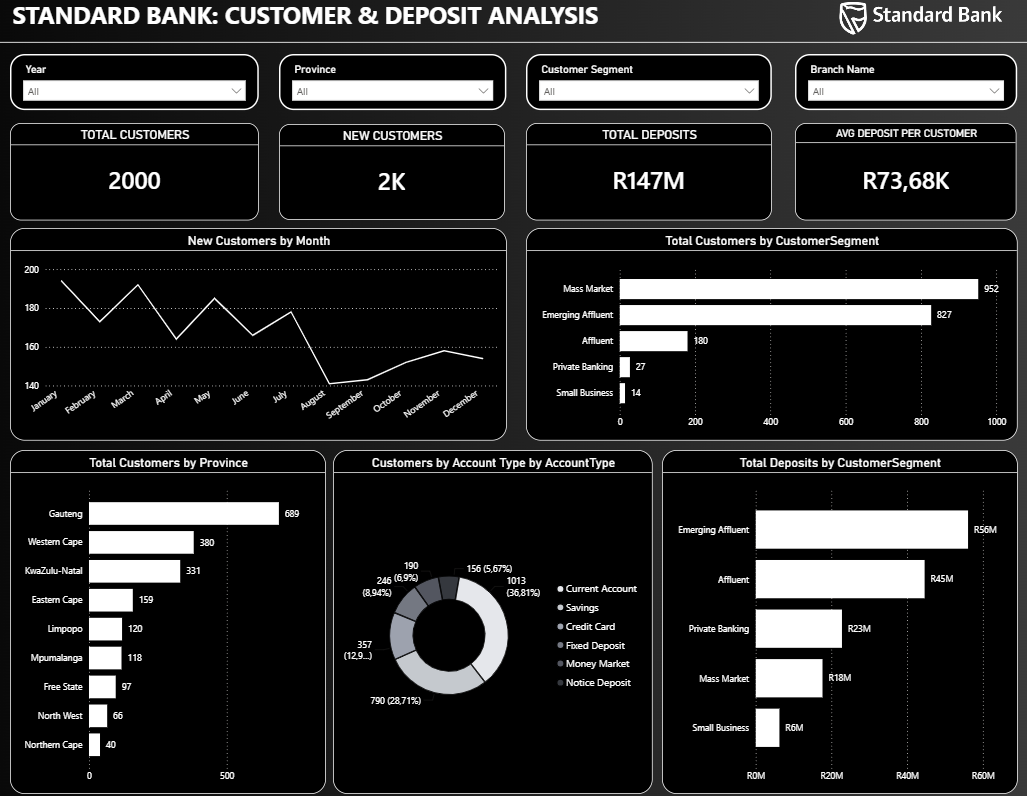

The dashboard page shown, as its layout file describes it:
{"tool":"powerbi","page":{"name":"CustomerDepositAnalysis","canvas":[1410,1100],"ordinal":1},"visuals":[{"type":"textbox","box":[0,0,1410.2,66.4],"z":0},{"type":"cardVisual","title":"TOTAL CUSTOMERS","fields":{"Data":["Measures (2).Total Customers"]},"box":[18.4,174.2,337.1,131.7],"z":1000},{"type":"cardVisual","title":"NEW CUSTOMERS","fields":{"Data":["Measures (2).New Customers"]},"box":[383.8,175.6,305.9,130.3],"z":2000},{"type":"cardVisual","title":"TOTAL DEPOSITS","fields":{"Data":["Measures (2).Total Deposits"]},"box":[718,174.2,332.8,131.7],"z":3000},{"type":"cardVisual","title":"AVG DEPOSIT PER CUSTOMER","fields":{"Data":["Measures (2).Avg Deposit per Customer"]},"box":[1082,174.2,300.2,131.7],"z":4000},{"type":"lineChart","fields":{"Category":["DimDate.Month"],"Y":["Measures (2).New Customers"]},"box":[18.4,317.2,672.7,287.5],"z":5000},{"type":"clusteredBarChart","fields":{"Y":["Measures (2).Total Customers"],"Category":["Customers.CustomerSegment"]},"box":[718,317.2,665.6,287.5],"z":6000},{"type":"image","box":[1095.9,5.4,314.4,55.2],"z":7000},{"type":"clusteredBarChart","fields":{"Y":["Measures (2).Total Customers"],"Category":["Customers.Province"]},"box":[18.4,617.5,427.7,465.9],"z":8000},{"type":"clusteredBarChart","fields":{"Category":["Customers.CustomerSegment"],"Y":["Measures (2).Total Deposits"]},"box":[902.2,617.5,481.5,465.9],"z":9000},{"type":"donutChart","fields":{"Category":["Accounts.AccountType"],"Y":["Measures (2).Customers by Account Type"]},"box":[456,617.5,433.4,465.9],"z":10000},{"type":"slicer","fields":{"Values":["Branches.BranchName"]},"box":[1082.4,81.3,300.7,75.9],"z":11000},{"type":"slicer","fields":{"Values":["Branches.Province"]},"box":[383.4,81.3,307.5,75.9],"z":12000},{"type":"slicer","fields":{"Values":["Customers.CustomerSegment"]},"box":[718,81.3,333.3,75.9],"z":13000},{"type":"slicer","fields":{"Values":["DimDate.Year"]},"box":[19,81.3,337.3,75.9],"z":14000}]}

Visuals, with their boxes in screenshot pixels (x1, y1, x2, y2), scaled from the page's 1410x1100 canvas onto the 1027x796 screenshot:
textbox: 0:0:1026:48
"TOTAL CUSTOMERS" cardVisual: 13:126:259:221
"NEW CUSTOMERS" cardVisual: 280:127:502:221
"TOTAL DEPOSITS" cardVisual: 523:126:765:221
"AVG DEPOSIT PER CUSTOMER" cardVisual: 788:126:1007:221
lineChart - DimDate.Month x Measures (2).New Customers: 13:230:503:438
clusteredBarChart - Measures (2).Total Customers x Customers.CustomerSegment: 523:230:1008:438
image: 798:4:1026:44
clusteredBarChart - Measures (2).Total Customers x Customers.Province: 13:447:325:784
clusteredBarChart - Customers.CustomerSegment x Measures (2).Total Deposits: 657:447:1008:784
donutChart - Accounts.AccountType x Measures (2).Customers by Account Type: 332:447:648:784
slicer - Branches.BranchName: 788:59:1007:114
slicer - Branches.Province: 279:59:503:114
slicer - Customers.CustomerSegment: 523:59:766:114
slicer - DimDate.Year: 14:59:260:114
